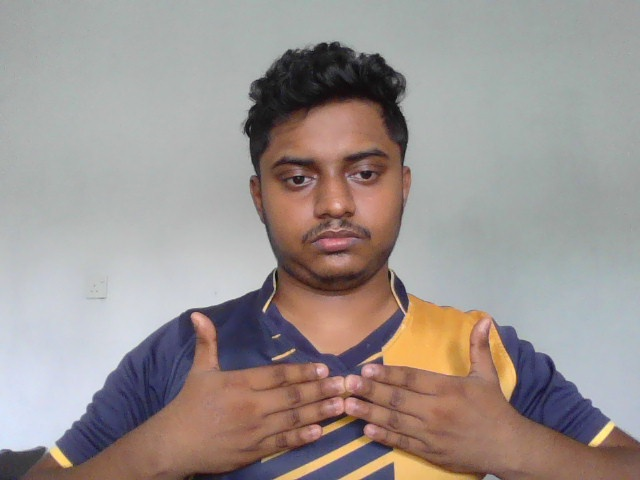Thank You: (178, 308, 506, 477)
